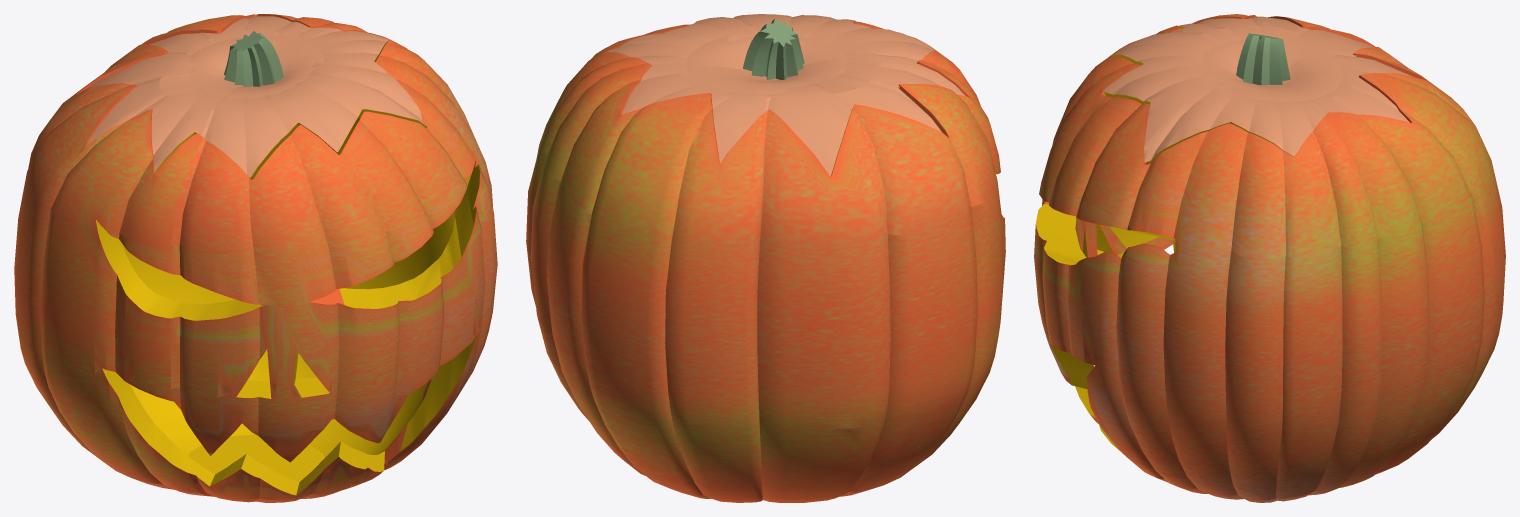
The model's file is JackOLantern.fbx.
3 views of the same model, side by side, from view 1: azimuth 30°, elevation 25°; view 2: azimuth 150°, elevation 25°; view 3: azimuth 270°, elevation 25° (orthographic). The views are drawn at different scales.
Parts seen in each view (by area): view 1: PumpkinWit, b, Spline Obj; view 2: PumpkinWit, b, Spline Obj; view 3: PumpkinWit, b, Spline Obj.
Boxes of the visible parts, x1,y1,x2,y2 form: PumpkinWit: (14, 14, 497, 502); b: (87, 16, 427, 179); Spline Obj: (224, 31, 283, 86); PumpkinWit: (526, 21, 1005, 502); b: (607, 14, 965, 176); Spline Obj: (743, 19, 804, 79); PumpkinWit: (1034, 14, 1505, 502); b: (1103, 16, 1413, 164); Spline Obj: (1236, 33, 1290, 85).
Size of the model in its own units: 327 by 312 by 313.
10 materials, 1 textured.
